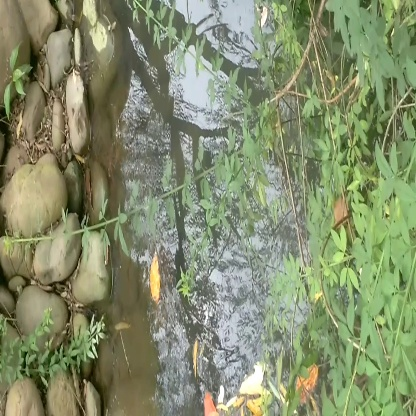leaf: (139, 248, 172, 306)
